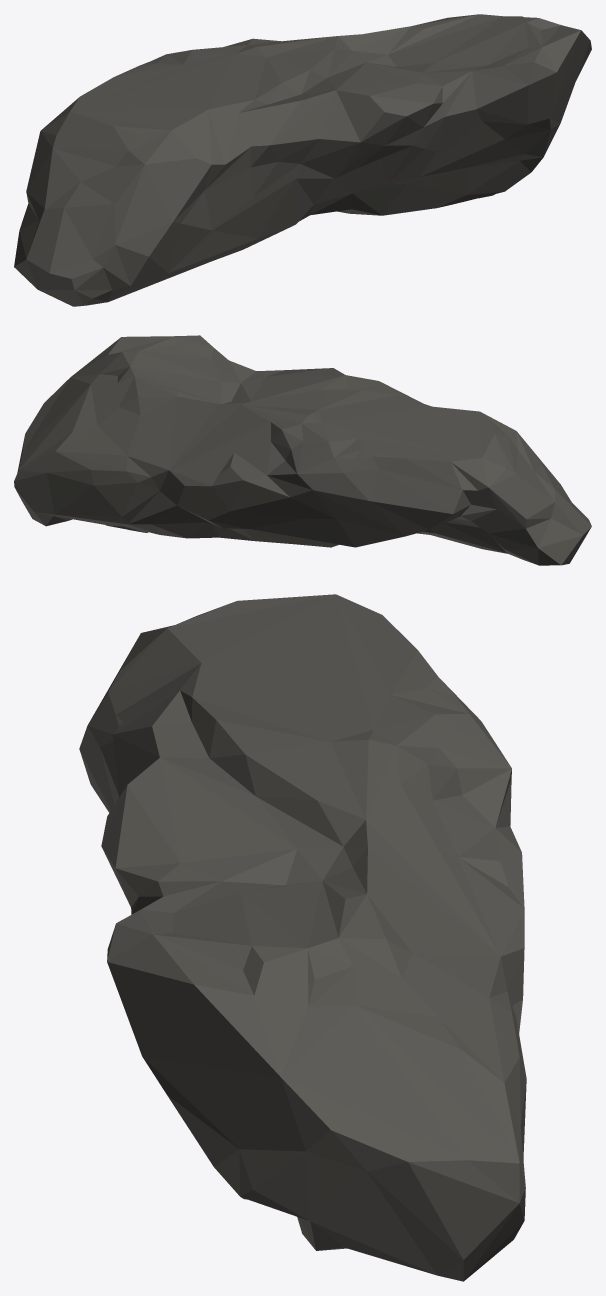
Rendered from SM_Env_Rock_02.fbx.
3 renders of one model, top to bottom at view 1: azimuth 30°, elevation 25°; view 2: azimuth 150°, elevation 25°; view 3: azimuth 270°, elevation 25°, orthographic. The views are drawn at different scales.
Parts seen in each view (by area): view 1: SM_Env_Rock_02; view 2: SM_Env_Rock_02; view 3: SM_Env_Rock_02.
Part boxes in pixels (<box>): SM_Env_Rock_02: <box>14,14,591,306</box>; SM_Env_Rock_02: <box>14,335,591,565</box>; SM_Env_Rock_02: <box>79,594,526,1281</box>.
Bounding box in the file's own units: 378 × 118 × 144.
1 material, 1 textured.
